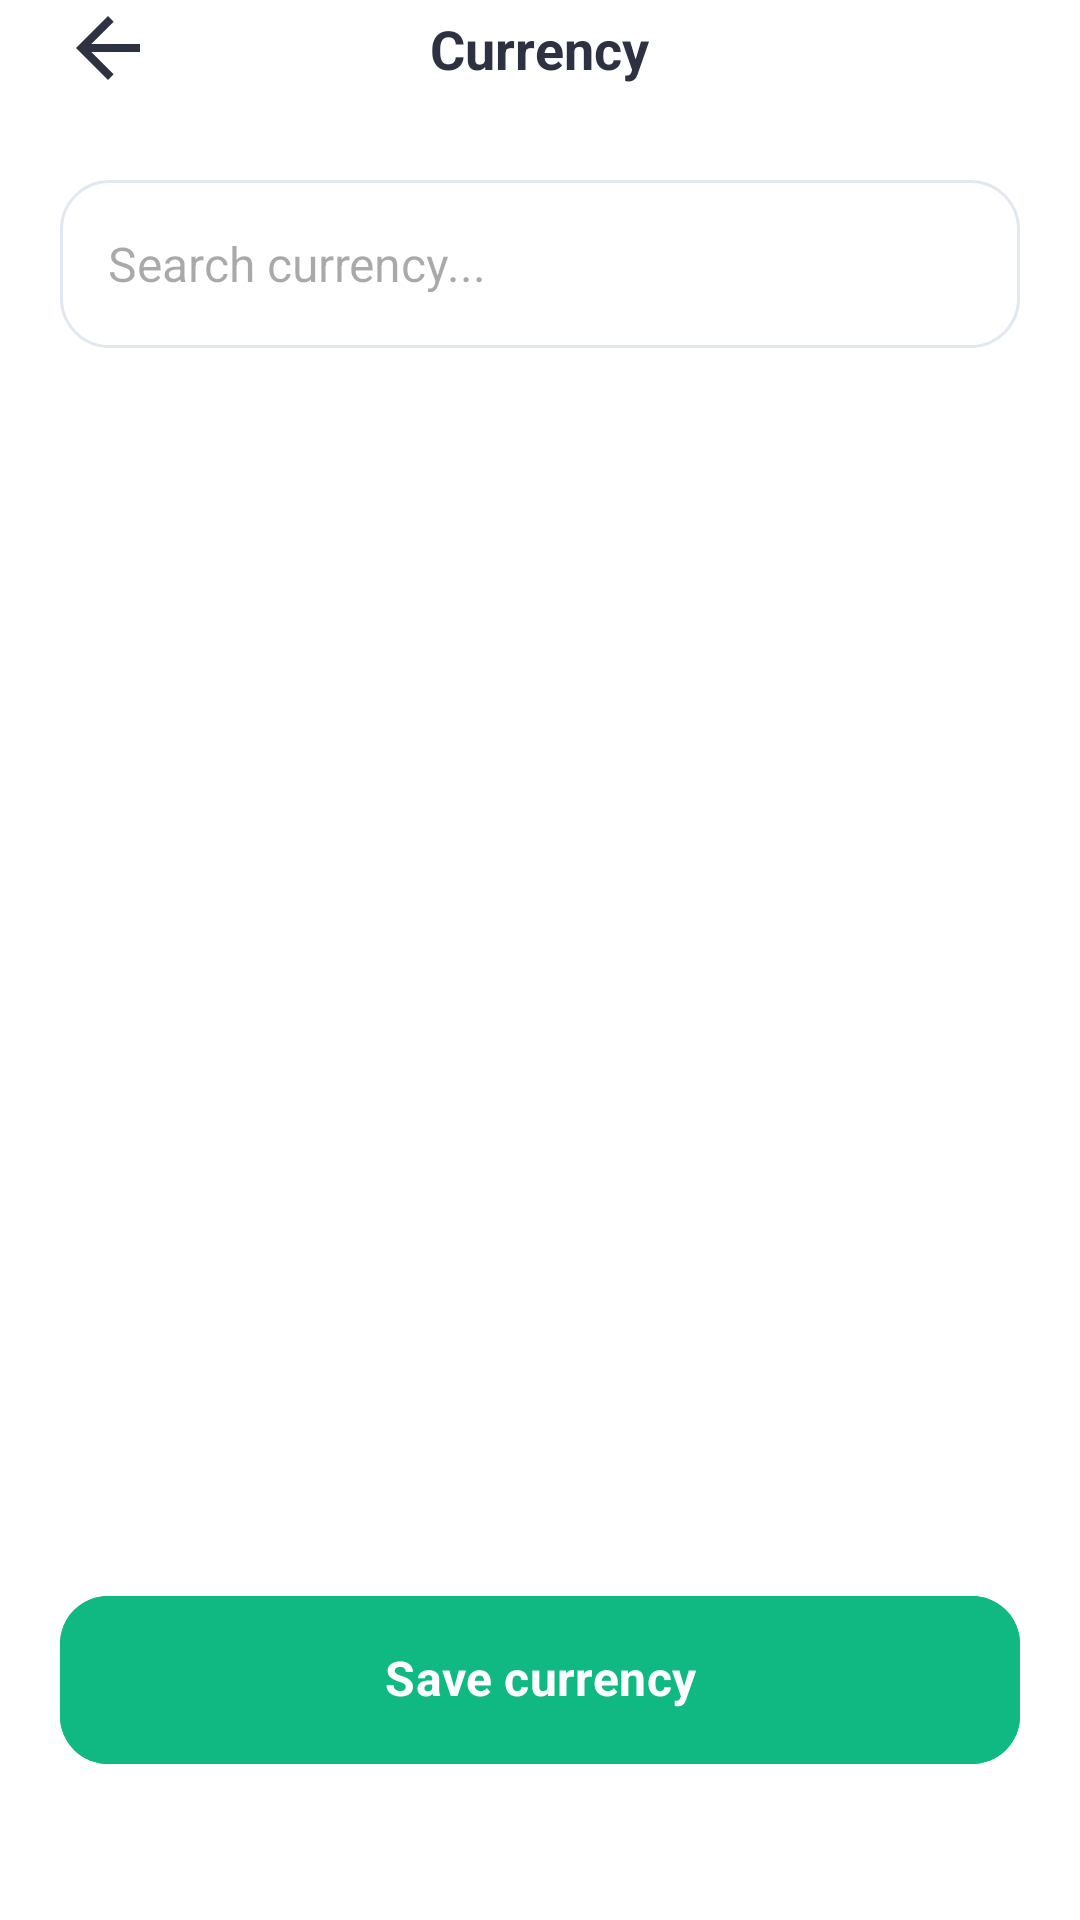

Where to tap for icons on this 1080w x 1920h app screen, as (x=x, y=y):
back: (x=108, y=48)
